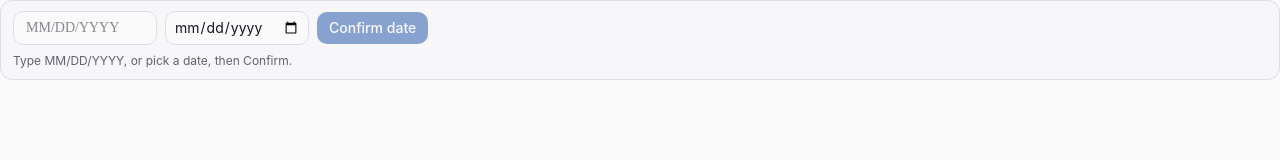
Scenario: IntakeQuestionWidget date kind › shows a year error for 01/12/0001 and keeps Confirm disabled
This screenshot has width=1280, height=160.
Type "01120001" into the field with placeholder "MM/DD/YYYY". click: (85, 28)
box: [13,11,157,45]
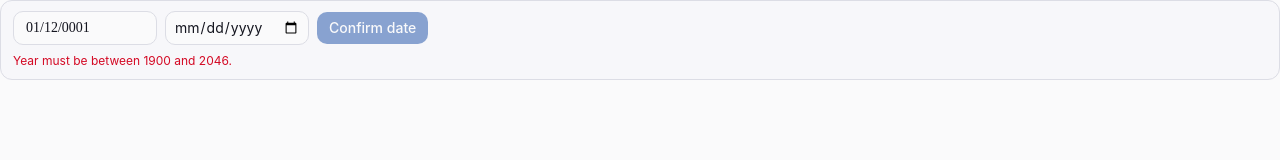
Expected: the button "Confirm date" is disabled, [317,12,428,44]
Expected: the message shows "Year must be between", [13,53,232,68]
